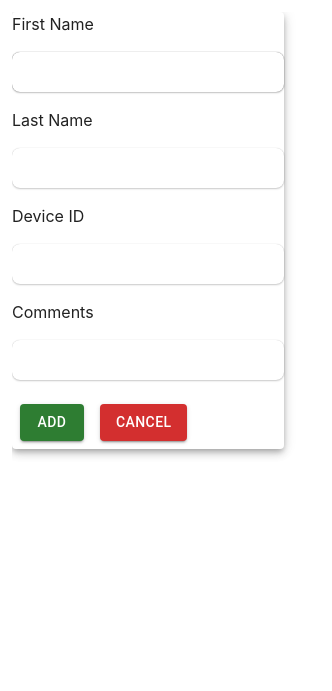
Test: Add component › should return validation error when last name is above character limit
The width and height of the screenshot is (332, 691).
In the field labelled "Last Name": [148, 168] box [12, 148, 284, 188], type "thisNameIsAboveTheMinimumCharacterLimit"
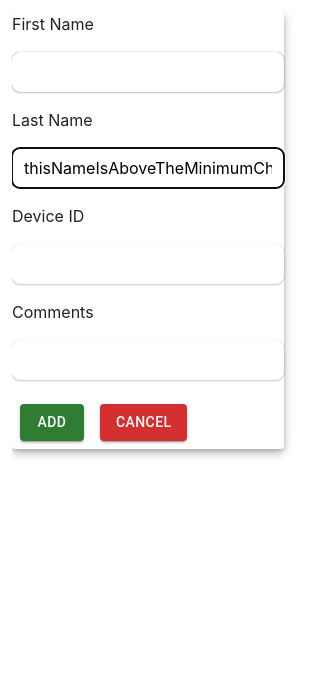
Click the button labelled "Add": [52, 422] box [20, 404, 84, 440]
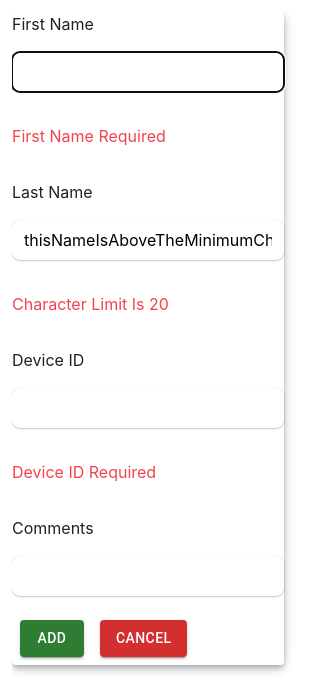
expect the text "Character Limit Is 20" is shown: met, box [12, 294, 169, 314]
